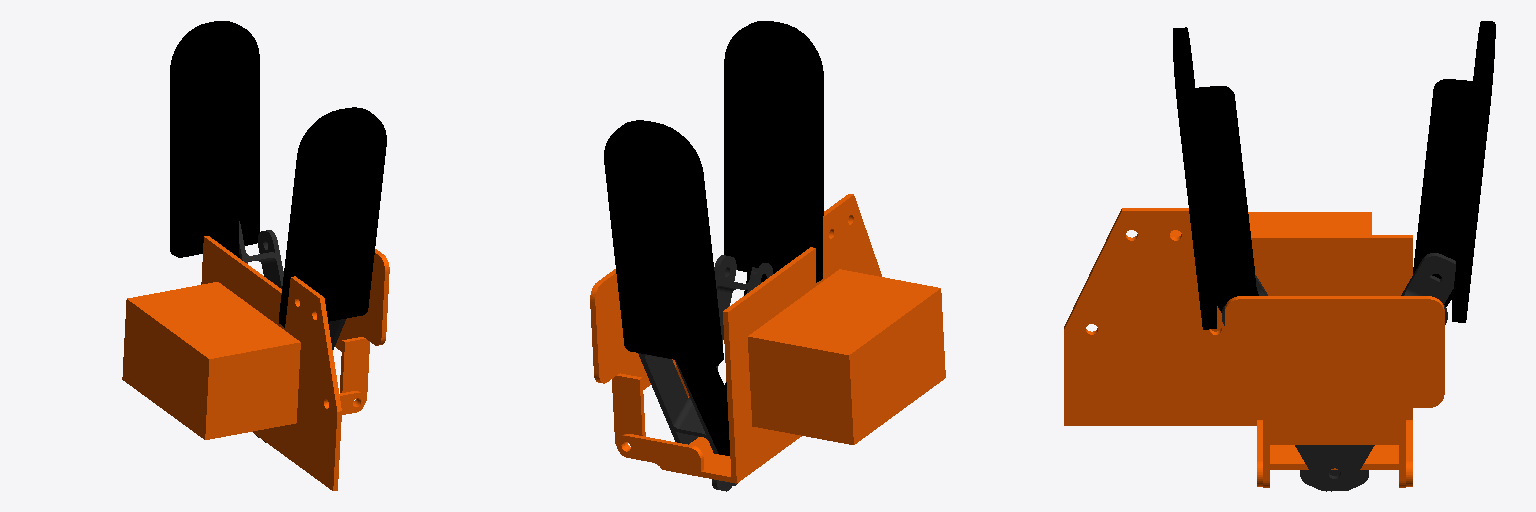
robot.urdf — clam:
<?xml version="1.0" ?>
<!-- =================================================================================== -->
<!-- |    This document was autogenerated by xacro from clam_urdf.xacro                | -->
<!-- |    EDITING THIS FILE BY HAND IS NOT RECOMMENDED                                 | -->
<!-- =================================================================================== -->
<!-- Robot Description format of CLAM arm 
[author] - [email redacted]
1/10/2012

Documentation:

URDF
http://www.ros.org/wiki/urdf/XML

Joint Safety Limits
http://www.ros.org/wiki/pr2_controller_manager/safety_limits

XARCO - Macro Language
http://www.ros.org/wiki/xacro

-->
<robot name="clam" xmlns:controller="http://playerstage.sourceforge.net/gazebo/xmlschema/#controller" xmlns:interface="http://playerstage.sourceforge.net/gazebo/xmlschema/#interface" xmlns:sensor="http://playerstage.sourceforge.net/gazebo/xmlschema/#sensor">
  <!-- Include materials -->
  <material name="Black">
    <color rgba="0.0 0.0 0.0 1.0"/>
  </material>
  <material name="Blue">
    <color rgba="0.0 0.0 0.8 1.0"/>
  </material>
  <material name="Green">
    <color rgba="0.0 0.8 0.0 1.0"/>
  </material>
  <material name="Grey">
    <color rgba="0.2 0.2 0.2 1.0"/>
  </material>
  <material name="Orange">
    <color rgba="1.0 0.423529411765 0.0392156862745 1.0"/>
  </material>
  <material name="Brown">
    <color rgba="0.870588235294 0.811764705882 0.764705882353 1.0"/>
  </material>
  <material name="Red">
    <color rgba="0.8 0.0 0.0 1.0"/>
  </material>
  <material name="White">
    <color rgba="1.0 1.0 1.0 1.0"/>
  </material>
  <material name="GunMetalBrushedAluminum">
    <texture filename="package://clam_description/media/gun_metal_brushed_aluminum.jpg"/>
  </material>
  <!-- Constants -->
  <!-- BASE LINK -->
  <link name="base_link">
    <visual>
      <origin rpy="1.570795 0 0" xyz="0 0 0"/>
      <!-- rotate PI/2 -->
      <geometry>
        <mesh filename="package://clam_description/stl/base_link.STL" scale="0.001 0.001 0.001"/>
      </geometry>
      <material name="Grey"/>
    </visual>
    <collision>
      <origin rpy="1.570795 0 0" xyz="0 0 0"/>
      <!-- rotate PI/2 -->
      <geometry>
        <mesh filename="package://clam_description/stl/base_link_simple.STL" scale="0.001 0.001 0.001"/>
      </geometry>
    </collision>
  </link>
  <joint name="shoulder_pan_joint" type="revolute">
    <parent link="base_link"/>
    <child link="shoulder_pan_link"/>
    <origin rpy="0 1.570795 0.0" xyz="0 0 0.05"/>
    <axis xyz="-1 0 0"/>
    <limit effort="300" lower="-2.61799387799" upper="1.98394848567" velocity="1"/>
    <dynamics damping="50" friction="1"/>
  </joint>
  <!-- SHOULDER PAN LINK -->
  <link name="shoulder_pan_link">
    <visual>
      <origin rpy="0 0 1.570795" xyz="0 0 0"/>
      <geometry>
        <mesh filename="package://clam_description/stl/shoulder_pan_link.STL" scale="0.001 0.001 0.001"/>
      </geometry>
      <material name="Orange"/>
    </visual>
    <collision>
      <origin rpy="0 0 1.570795" xyz="0 0 0"/>
      <geometry>
        <mesh filename="package://clam_description/stl/shoulder_pan_link_simple.STL" scale="0.001 0.001 0.001"/>
      </geometry>
    </collision>
  </link>
  <joint name="shoulder_pitch_joint" type="revolute">
    <parent link="shoulder_pan_link"/>
    <child link="shoulder_pitch_link"/>
    <origin rpy="-1.570795 0 1.570795" xyz="-0.041 0.0021 0.0"/>
    <axis xyz="1 0 0"/>
    <limit effort="300" lower="-1.19962513147" upper="1.89994105047" velocity="1"/>
    <dynamics damping="50" friction="1"/>
  </joint>
  <!-- SHOULDER PITCH LINK -->
  <link name="shoulder_pitch_link">
    <visual>
      <origin rpy="1.570795 3.14159 1.570795" xyz="-0.002 0 -0.000"/>
      <geometry>
        <mesh filename="package://clam_description/stl/shoulder_pitch_link.STL" scale="0.001 0.001 0.001"/>
      </geometry>
      <material name="Grey"/>
    </visual>
    <collision>
      <origin rpy="1.570795 3.14159 1.570795" xyz="-0.002 0 -0.000"/>
      <geometry>
        <mesh filename="package://clam_description/stl/shoulder_pitch_link_simple.STL" scale="0.001 0.001 0.001"/>
      </geometry>
    </collision>
  </link>
  <joint name="elbow_roll_joint" type="revolute">
    <parent link="shoulder_pitch_link"/>
    <child link="elbow_roll_link"/>
    <origin rpy="3.14159 1.570795 0" xyz="-0.002 0 0.1206"/>
    <axis xyz="-1 0 0"/>
    <limit effort="300" lower="-2.61799387799" upper="0.705631162427" velocity="1"/>
    <dynamics damping="50" friction="1"/>
  </joint>
  <!-- ELBOW ROLL LINK -->
  <link name="elbow_roll_link">
    <visual>
      <origin rpy="3.14159 1.570795 1.570795" xyz="-0.035 0.0 0.0"/>
      <geometry>
        <mesh filename="package://clam_description/stl/elbow_roll_link.STL" scale="0.001 0.001 0.001"/>
      </geometry>
      <material name="Black"/>
    </visual>
    <collision>
      <origin rpy="3.14159 1.570795 1.570795" xyz="-0.035 0.0 0.0"/>
      <geometry>
        <mesh filename="package://clam_description/stl/elbow_roll_link_simple.STL" scale="0.001 0.001 0.001"/>
      </geometry>
    </collision>
  </link>
  <joint name="elbow_pitch_joint" type="revolute">
    <parent link="elbow_roll_link"/>
    <child link="elbow_pitch_link"/>
    <origin rpy="0.055 1.570795 0" xyz="-0.035 0 0.0"/>
    <axis xyz="1 0 0"/>
    <limit effort="300" lower="-1.5953400194" upper="1.93281579274" velocity="1"/>
    <dynamics damping="50" friction="1"/>
  </joint>
  <!-- ELBOW PITCH LINK -->
  <link name="elbow_pitch_link">
    <visual>
      <origin rpy="1.570795 0 4.712385" xyz="0.0 0 0"/>
      <geometry>
        <mesh filename="package://clam_description/stl/elbow_pitch_link.STL" scale="0.001 0.001 0.001"/>
      </geometry>
      <material name="Orange"/>
    </visual>
    <collision>
      <origin rpy="1.570795 0 4.712385" xyz="0.0 0 0"/>
      <geometry>
        <mesh filename="package://clam_description/stl/elbow_pitch_link_simple.STL" scale="0.001 0.001 0.001"/>
      </geometry>
    </collision>
  </link>
  <joint name="wrist_roll_joint" type="revolute">
    <parent link="elbow_pitch_link"/>
    <child link="wrist_roll_link"/>
    <origin rpy="0 1.570795 3.14159" xyz="0.0 0.0081 -.248"/>
    <axis xyz="1 0 0"/>
    <limit effort="300" lower="-2.61799387799" upper="2.6128806087" velocity="1"/>
    <dynamics damping="50" friction="1"/>
  </joint>
  <!-- WRIST ROLL LINK -->
  <link name="wrist_roll_link">
    <visual>
      <origin rpy="0 1.570795 1.570795" xyz="0 0 0"/>
      <geometry>
        <mesh filename="package://clam_description/stl/wrist_roll_link.STL" scale="0.001 0.001 0.001"/>
      </geometry>
      <material name="Black"/>
    </visual>
    <collision>
      <origin rpy="0 1.570795 1.570795" xyz="0 0 0"/>
      <geometry>
        <mesh filename="package://clam_description/stl/wrist_roll_link_simple.STL" scale="0.001 0.001 0.001"/>
      </geometry>
    </collision>
  </link>
  <joint name="wrist_pitch_joint" type="revolute">
    <parent link="wrist_roll_link"/>
    <child link="wrist_pitch_link"/>
    <origin rpy="0 1.570795 0" xyz="0.0 0.0 0.0001"/>
    <axis xyz="1 0 0"/>
    <limit effort="300" lower="-1.5953400194" upper="1.98394848567" velocity="1"/>
    <dynamics damping="50" friction="1"/>
  </joint>
  <!-- WRIST PITCH LINK -->
  <link name="wrist_pitch_link">
    <visual>
      <origin rpy="3.14159 -1.570795 0" xyz="0 0 0"/>
      <geometry>
        <mesh filename="package://clam_description/stl/wrist_pitch_link.STL" scale="0.001 0.001 0.001"/>
      </geometry>
      <material name="Grey"/>
    </visual>
    <collision>
      <origin rpy="3.14159 -1.570795 0" xyz="0 0 0"/>
      <geometry>
        <mesh filename="package://clam_description/stl/wrist_pitch_link_simple.STL" scale="0.001 0.001 0.001"/>
      </geometry>
    </collision>
  </link>
  <joint name="gripper_roll_joint" type="revolute">
    <parent link="wrist_pitch_link"/>
    <child link="gripper_roll_link"/>
    <origin rpy="4.712385 -1.570795 0" xyz="0 0 0.080"/>
    <axis xyz="1 0 0"/>
    <limit effort="300" lower="-2.61799387799" upper="2.6128806087" velocity="1"/>
    <dynamics damping="50" friction="1"/>
  </joint>
  <!-- GRIPPER ROLL LINK -->
  <link name="gripper_roll_link">
    <visual>
      <origin rpy="0 0 0" xyz="0 0 0"/>
      <geometry>
        <mesh filename="package://clam_description/stl/gripper_grip_link.STL" scale="1 1 1"/>
      </geometry>
      <material name="Orange"/>
    </visual>
  </link>
  <joint name="l_gripper_aft_joint" type="revolute">
    <parent link="gripper_roll_link"/>
    <child link="l_gripper_aft_link"/>
    <origin rpy="3.2672536 1.570795 0.603534345556" xyz="0.026 .017 0"/>
    <axis xyz="1 0 0"/>
    <limit effort="300" lower="0.0" upper="-0.925023722222" velocity="1"/>
    <dynamics damping="50" friction="1"/>
  </joint>
  <!-- LEFT GRIPPER AFT LINK -->
  <link name="l_gripper_aft_link">
    <visual>
      <origin rpy="0 0 3.14159" xyz="0 0 0"/>
      <geometry>
        <mesh filename="package://clam_description/stl/l_gripper_aft_link.STL" scale="1 1 1"/>
      </geometry>
      <material name="Grey"/>
    </visual>
  </link>
  <joint name="r_gripper_aft_link_joint" type="revolute">
    <parent link="gripper_roll_link"/>
    <child link="r_gripper_aft_link"/>
    <origin rpy="4.22543855 1.570795 0.603534345556" xyz="0.026 -0.011  0"/>
    <axis xyz="1 0 0"/>
    <limit effort="300" lower="-3.14" upper="3.14" velocity="1"/>
    <mimic joint="l_gripper_aft_joint" multiplier="-1.0" offset="0.0"/>
    <dynamics damping="50" friction="1"/>
  </joint>
  <!-- RIGHT GRIPPER AFT LINK -->
  <link name="r_gripper_aft_link">
    <visual>
      <origin rpy="0 0 3.14159" xyz="0 0 0"/>
      <geometry>
        <mesh filename="package://clam_description/stl/r_gripper_aft_link.STL" scale="1 1 1"/>
      </geometry>
      <material name="Grey"/>
    </visual>
  </link>
  <joint name="l_gripper_fwd_link_joint" type="revolute">
    <parent link="gripper_roll_link"/>
    <child link="l_gripper_fwd_link"/>
    <origin rpy="3.2672536 1.570795 3.74512434556" xyz="0.05 0.008 0.007"/>
    <axis xyz="1 0 0"/>
    <limit effort="300" lower="0" upper="1.57" velocity="1"/>
    <mimic joint="l_gripper_aft_joint" multiplier="1.0" offset="0"/>
    <dynamics damping="50" friction="1"/>
  </joint>
  <!-- LEFT GRIPPER FWD LINK -->
  <link name="l_gripper_fwd_link">
    <visual>
      <origin rpy="0 0 3.14159" xyz="0 0 0"/>
      <geometry>
        <mesh filename="package://clam_description/stl/l_gripper_fwd_link.STL" scale="1 1 1"/>
      </geometry>
      <material name="Grey"/>
    </visual>
  </link>
  <joint name="r_gripper_fwd_link_joint" type="revolute">
    <parent link="gripper_roll_link"/>
    <child link="r_gripper_fwd_link"/>
    <origin rpy="3.0159264 1.570795 2.53805565444" xyz="0.05 -0.0014 0.007"/>
    <axis xyz="1 0 0"/>
    <limit effort="300" lower="-1.57" upper="0" velocity="1"/>
    <mimic joint="l_gripper_aft_joint" multiplier="-1.0" offset="0"/>
    <dynamics damping="50" friction="1"/>
  </joint>
  <!-- RIGHT GRIPPER FWD LINK -->
  <link name="r_gripper_fwd_link">
    <visual>
      <origin rpy="0 0 3.14159" xyz="0 0 0"/>
      <geometry>
        <mesh filename="package://clam_description/stl/r_gripper_fwd_link.STL" scale="1 1 1"/>
      </geometry>
      <material name="Grey"/>
    </visual>
  </link>
  <joint name="l_gripper_aft_pincher_joint" type="continuous">
    <parent link="l_gripper_aft_link"/>
    <child link="l_gripper_pincher"/>
    <origin rpy="2.55812692389 0 0" xyz="-0.0032 0 -0.0508"/>
    <axis xyz="1 0 0"/>
    <limit effort="300" lower="-1.57" upper="1.57" velocity="1"/>
    <mimic joint="l_gripper_aft_joint" multiplier="-1.0" offset="0"/>
    <dynamics damping="50" friction="1"/>
  </joint>
  <!-- LEFT GRIPPER PINCHER -->
  <link name="l_gripper_pincher">
    <visual>
      <origin rpy="0 0 3.14159" xyz="0 0 0"/>
      <geometry>
        <mesh filename="package://clam_description/stl/l_gripper_pincher.STL" scale="1 1 1"/>
      </geometry>
      <material name="Black"/>
    </visual>
  </link>
  <joint name="r_gripper_aft_pincher_joint" type="revolute">
    <parent link="r_gripper_aft_link"/>
    <child link="r_gripper_pincher"/>
    <origin rpy="-0.583463076111 3.14159 0" xyz="0 0 -0.0508"/>
    <axis xyz="1 0 0"/>
    <limit effort="300" lower="0" upper="1.57" velocity="1"/>
    <mimic joint="l_gripper_aft_joint" multiplier="-1.0" offset="0"/>
    <dynamics damping="50" friction="1"/>
  </joint>
  <!-- RIGHT GRIPPER PINCHER -->
  <link name="r_gripper_pincher">
    <visual>
      <origin rpy="0 0 3.14159" xyz="0 0 0"/>
      <geometry>
        <mesh filename="package://clam_description/stl/r_gripper_pincher.STL" scale="1 1 1"/>
      </geometry>
      <material name="Black"/>
    </visual>
  </link>
  <!-- TABLETOP MODEL -->
  <!--joint name="tabletop_joint" type="fixed">
    <origin xyz="0 0 0" rpy="0 0 0" />
    <parent link="base_link"/>
    <child link="tabletop_link"/>
  </joint>

  <link name="tabletop_link">
    <visual>
      <origin rpy="${.5*M_PI} 0 ${.5*M_PI}" xyz=" 0 0 -0.017"/>
      <geometry>
	<mesh filename="package://clam_description/stl/tabletop.STL" scale="1 1 1" />
      </geometry>
      <material name="Brown" />
    </visual>
  </link-->
  <!-- FAKE CAMERA CALIBRATION POINT AT GRIPPER TIP  -->
  <joint name="gripper_link_joint" type="fixed">
    <!--origin xyz="0.012 -0.11 0.020" rpy="0 0 0" /-->
    <origin rpy="0 0 0" xyz="0.1795 0 0"/>
    <parent link="gripper_roll_link"/>
    <child link="gripper_link"/>
  </joint>
  <link name="gripper_link">
    <visual>
      <origin rpy="0 0 0" xyz="0 0 0"/>
      <geometry>
        <sphere radius=".001"/>
      </geometry>
    </visual>
  </link>
  <!-- KINECT LINK - Not Needed! -->
  <!--
  <joint name="base_kinect_joint" type="fixed">
    <origin xyz="0.769541 -0.0539292 0.836631" rpy="0 0 0" />
    <parent link="base_link"/>
    <child link="camera_link"/>
  </joint>

  <link name="camera_link">
    <visual>
      <origin rpy="0 0 0" xyz=" 0 0 0 "/>
      <geometry>
	<sphere radius=".005"/>
      </geometry>
    </visual>
  </link>
-->
</robot>

--- What the picture shows (computed from the rendered views, not written in the file) ---
3 views of the same robot in one strip: view 1: azimuth 30°, elevation 25°; view 2: azimuth 150°, elevation 25°; view 3: azimuth 270°, elevation 25° (orthographic).
Robot: clam — 15 links, 14 joints (12 revolute, 1 continuous, 1 fixed); root link base_link; default pose: every joint at zero.
Visible links, largest first — view 1: gripper_roll_link, r_gripper_pincher, l_gripper_pincher, l_gripper_fwd_link; view 2: gripper_roll_link, r_gripper_pincher, l_gripper_pincher, l_gripper_fwd_link, r_gripper_fwd_link, l_gripper_aft_link; view 3: gripper_roll_link, l_gripper_pincher, r_gripper_pincher, l_gripper_aft_link, r_gripper_fwd_link, l_gripper_fwd_link.
Boxes of the visible links, box(x1,y1,x2,y2) form: gripper_roll_link: box(122, 236, 389, 490); r_gripper_pincher: box(170, 21, 259, 257); l_gripper_pincher: box(279, 107, 386, 327); l_gripper_fwd_link: box(239, 230, 283, 288); gripper_roll_link: box(590, 194, 945, 483); r_gripper_pincher: box(604, 120, 729, 455); l_gripper_pincher: box(724, 21, 823, 389); l_gripper_fwd_link: box(638, 353, 711, 443); r_gripper_fwd_link: box(686, 255, 772, 444); l_gripper_aft_link: box(639, 353, 737, 485); gripper_roll_link: box(1064, 208, 1444, 487); l_gripper_pincher: box(1173, 27, 1258, 329); r_gripper_pincher: box(1413, 21, 1495, 322); l_gripper_aft_link: box(1300, 253, 1455, 491); r_gripper_fwd_link: box(1222, 279, 1354, 491); l_gripper_fwd_link: box(1319, 275, 1447, 490).
Size in the robot's own frame: 70.91 by 99.61 by 119 metres.
Meshes: 14 distinct files referenced, 13 mesh visuals loaded (13 binary STL); not drawn: 1 (reference not matched to a file when rendering).